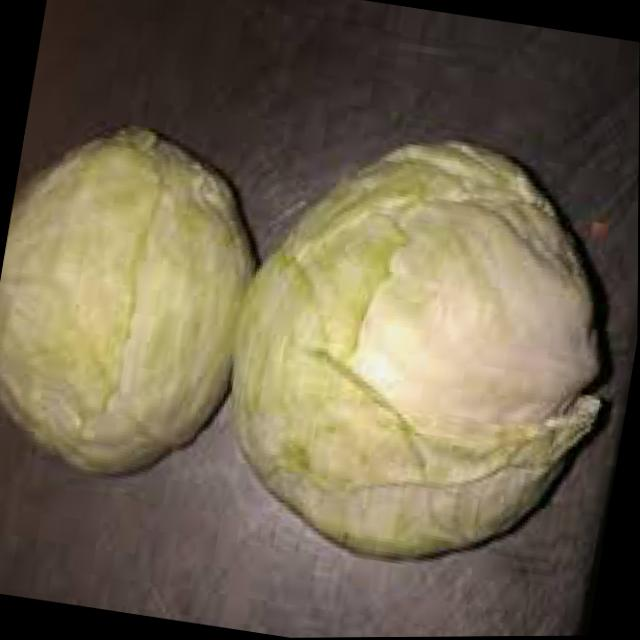Cabbage: (205, 108, 639, 593), (0, 109, 278, 496)
